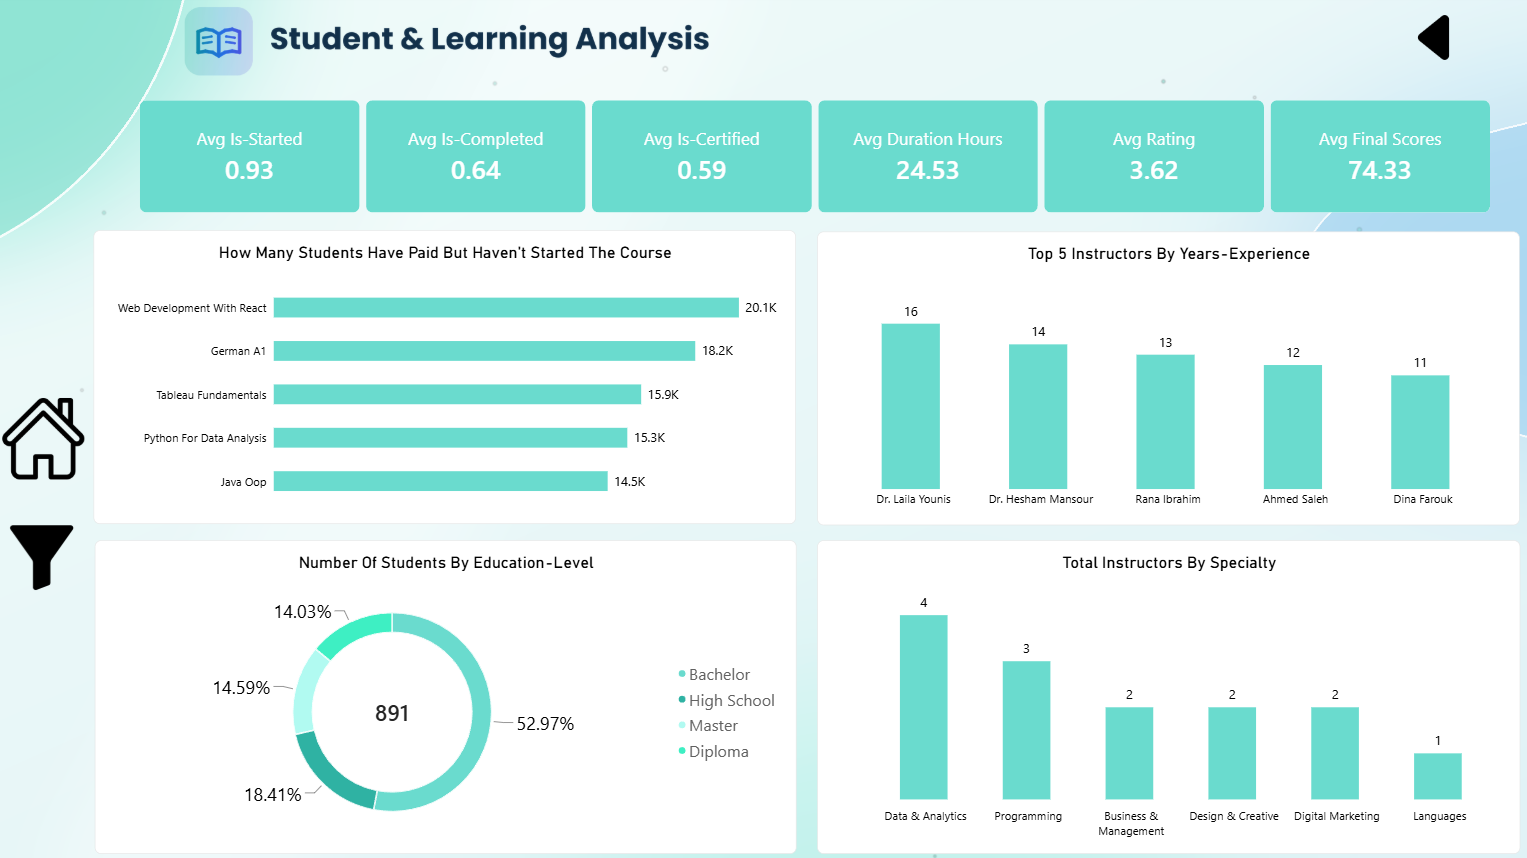

The page's visual inventory and layout, read from the dashboard file:
{"tool":"powerbi","page":{"name":"Student & Learning Analysis","canvas":[1920,1080],"ordinal":2},"visuals":[{"type":"image","box":[0,0,1920,1080],"z":0},{"type":"image","box":[7.8,662.3,98.7,80.5],"z":2000},{"type":"image","box":[230,8,664,102],"z":3000},{"type":"cardVisual","fields":{"Data":["_measures.Avg Is-Started","_measures.Avg Is-Completed","_measures.Avg Is-Certified","_measures.Avg Duration Hours","_measures.Avg Rating","_measures.Avg Final Scores"]},"box":[180,132,1688,140],"z":4000},{"type":"image","box":[8,492,102,124],"z":5000},{"type":"image","box":[1764,6,56,96],"z":6000},{"type":"columnChart","title":"Top 5 Instructors By Years-Experience","fields":{"Category":["Instructor.InstructorName"],"Y":["Sum(Instructor.YearsExperience)"]},"box":[1024.1,296,876,366],"z":7000},{"type":"donutChart","title":"Number Of Students By Education-Level","fields":{"Category":["Student.EducationLevel"],"Y":["CountNonNull(Student.StudentName)"]},"box":[122.9,681.5,875.1,391],"z":15000},{"type":"columnChart","title":"Total Instructors By Specialty","fields":{"Category":["Instructor.Specialty"],"Y":["CountNonNull(Instructor.InstructorName)"]},"box":[1024.1,681.5,877,391],"z":16000},{"type":"clusteredBarChart","title":" How Many Students Have Paid But Haven''t Started The Course","fields":{"Category":["Course.CourseName"],"Y":["_measures.Revenue at Risk"]},"box":[121,294.2,876,366],"z":17000}]}

Visuals, with their boxes in screenshot pixels (x1, y1, x2, y2), scaled from the page's 1920x1080 canvas onto the 1527x858 screenshot:
image: 0/0/1526/857
image: 6/526/85/590
image: 183/6/711/87
cardVisual - _measures.Avg Is-Started x _measures.Avg Is-Completed: 143/105/1486/216
image: 6/391/87/489
image: 1403/5/1447/81
"Top 5 Instructors By Years-Experience" columnChart: 814/235/1511/526
"Number Of Students By Education-Level" donutChart: 98/541/794/852
"Total Instructors By Specialty" columnChart: 814/541/1512/852
" How Many Students Have Paid But Haven''t Started The Course" clusteredBarChart: 96/234/793/524
